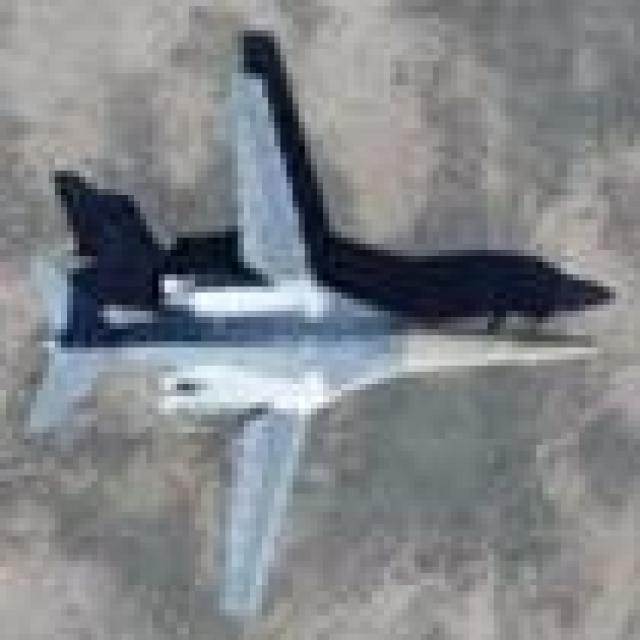B-1_TopDown: (18, 24, 616, 616)
